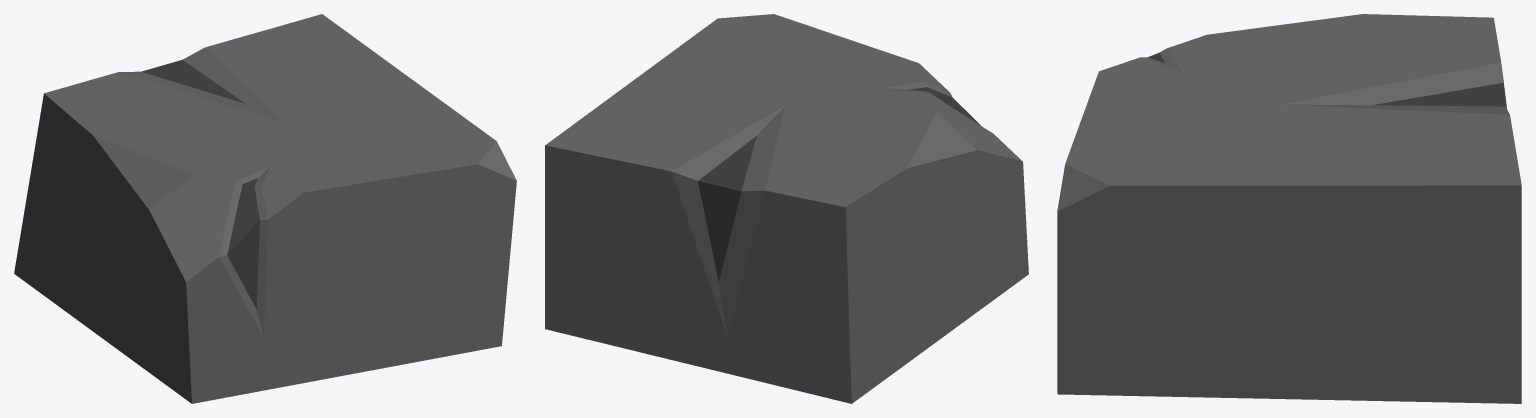
The model's file is block.glb.
The picture shows the model from 3 angles, left to right: view 1: azimuth 30°, elevation 25°; view 2: azimuth 150°, elevation 25°; view 3: azimuth 270°, elevation 25°; orthographic projection. The views are drawn at different scales.
Parts seen in each view (by area): view 1: Cube; view 2: Cube; view 3: Cube.
Part boxes in pixels (x1,y1,x2,y2): Cube: [14, 14, 516, 403]; Cube: [545, 14, 1028, 403]; Cube: [1057, 14, 1521, 403].
Bounding box in the file's own units: 2 × 1.15 × 2.2.
1 material, 1 textured.
